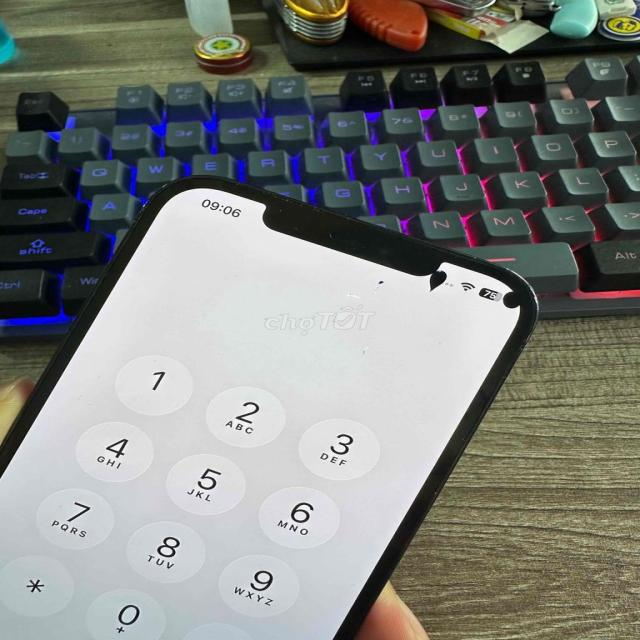gen_12_13: (0, 174, 538, 639)
